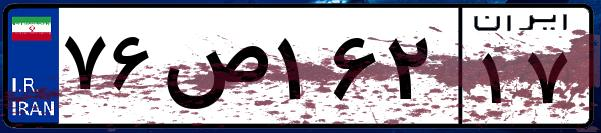1: (270, 28, 330, 110), (475, 38, 525, 113)
2: (385, 28, 445, 110)
6: (330, 28, 385, 110), (110, 28, 158, 98)
7: (57, 26, 110, 100), (525, 38, 570, 115)
ص: (158, 20, 270, 120)
